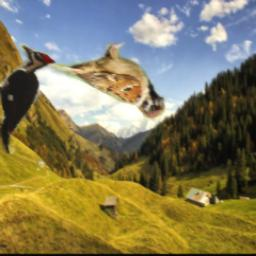Sparrow: (43, 40, 169, 122)
Woodpecker: (0, 43, 55, 153)
